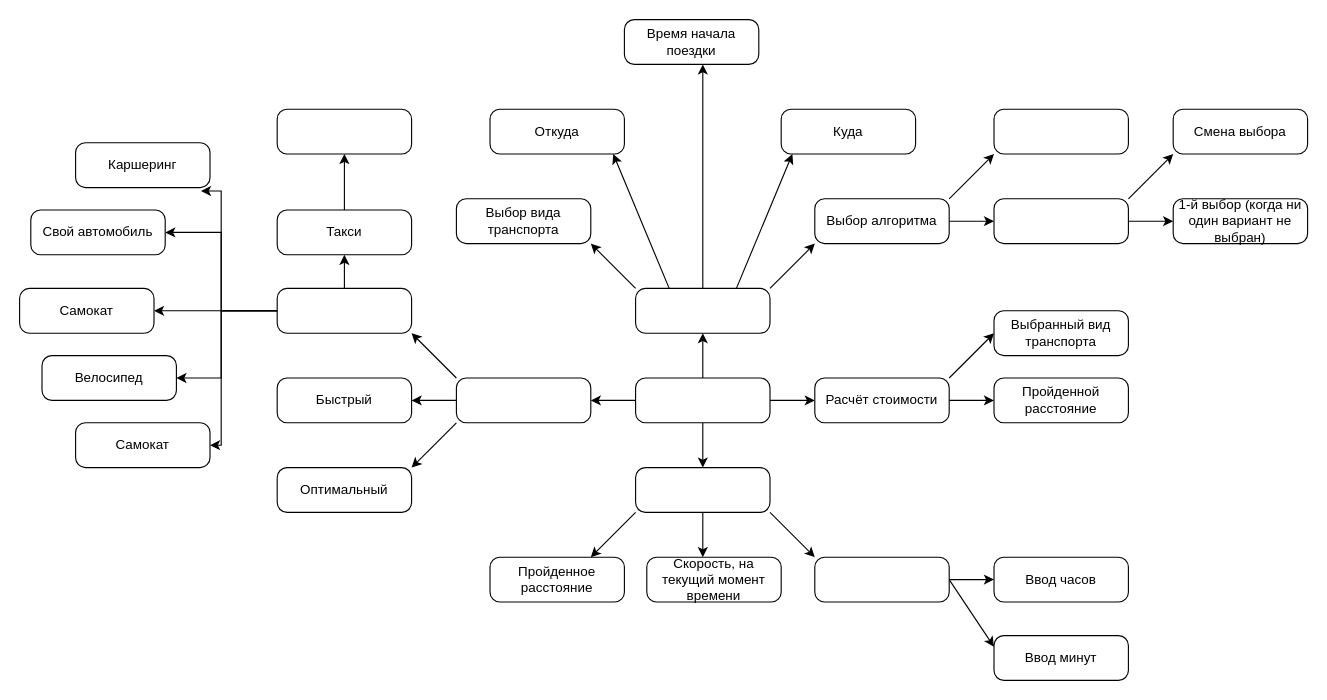
Image size: 1327x700. Some labels were removed from this diagram. Here are the shapes that lost their labels. From the top down, the centre of each, then its label:
At point 344,131: "Вызов такси".
At point 1060,131: "Ничего не выбрано".
At point 1060,221: "Выбран вариант 1".
At point 344,310: "Свой".
At point 702,310: "Интерфейс".
At point 523,400: "Алгоритм".
At point 702,400: "Яндекс Маршруты".
At point 702,489: "Расчёт времени".
At point 881,579: "При изменении времени старта".
